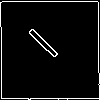I: (25, 25, 69, 68)
